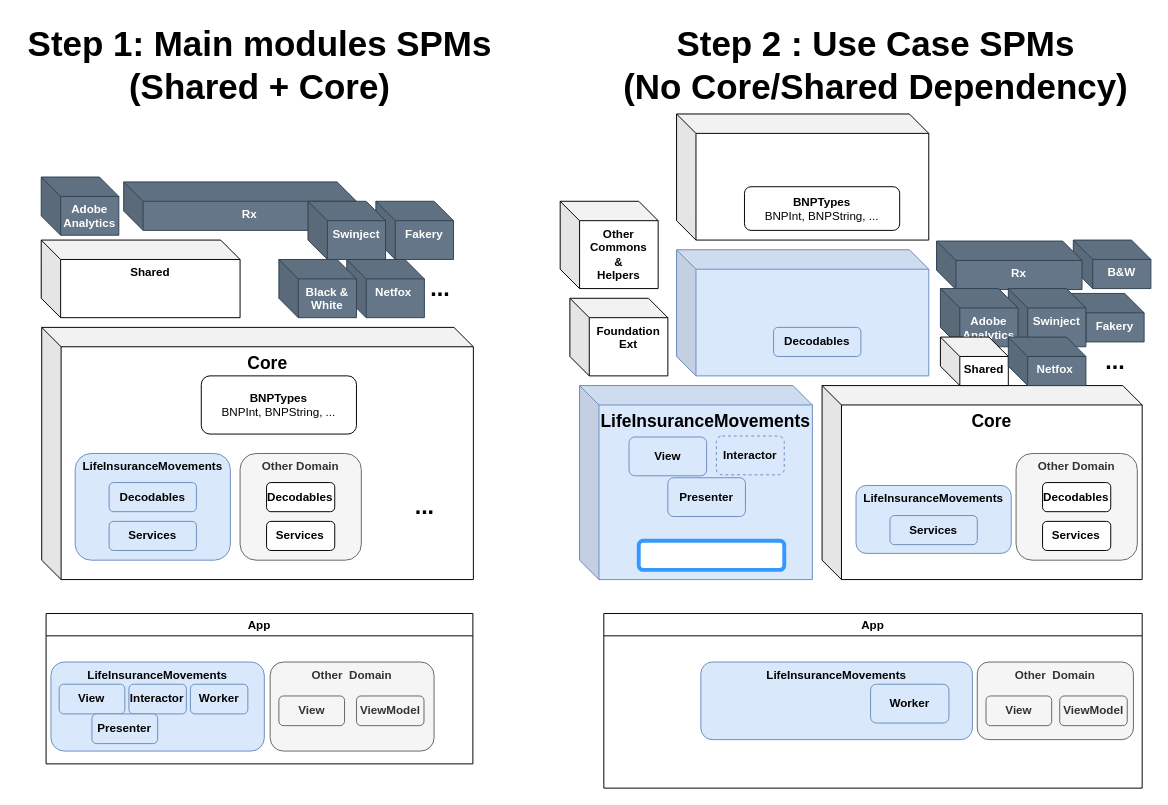
Image size: 1168x805. Some labels were removed from this diagram. Each missing label, with the box of its shape:
Preview: (636, 538, 786, 571)
Raw Common: (676, 113, 929, 240)
Raw LifeInsuranceMovements: (676, 249, 929, 376)
